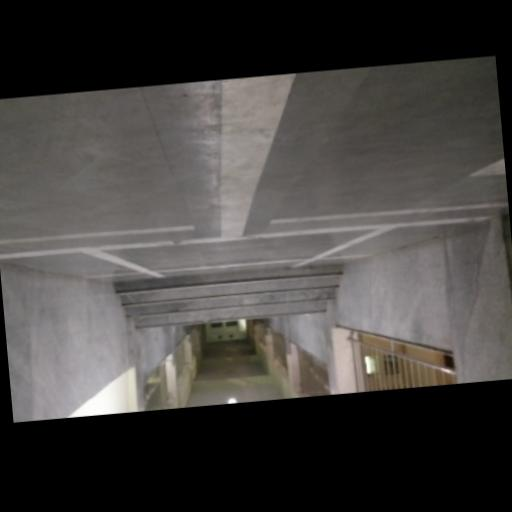stairs: (117, 263, 343, 325)
